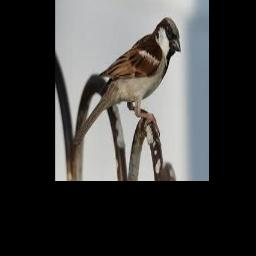Sparrow: (73, 18, 180, 148)
